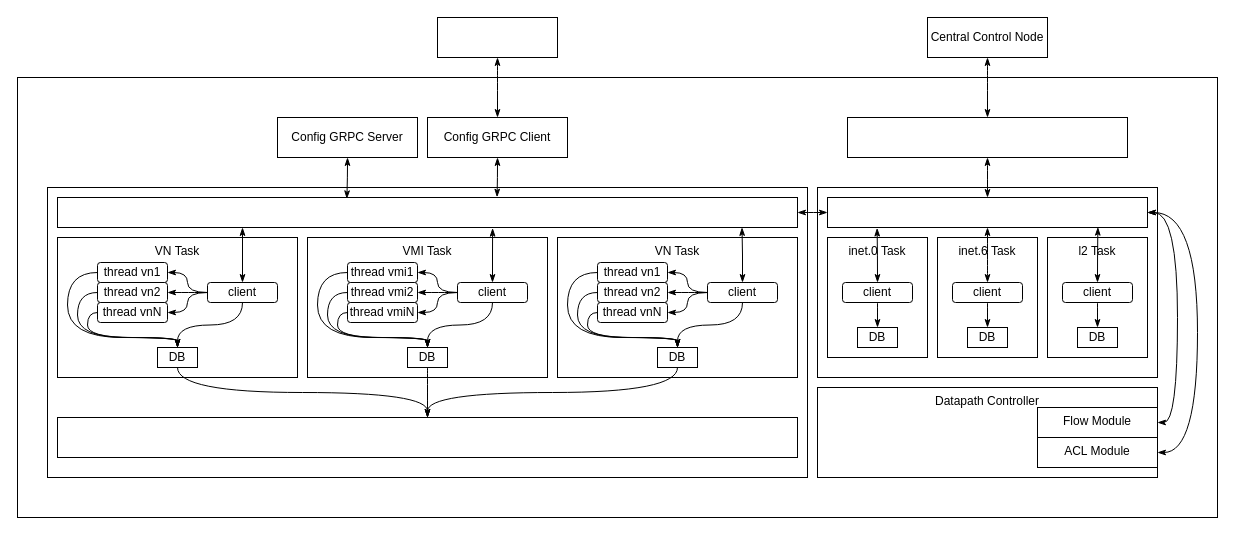
This 1235x535 diagram has some shape labels left out. The centre of each missing label's shape, as x and y in pixels:
"Central Config Controller" goes at (x=497, y=37).
"Control GRPC Client" goes at (x=987, y=137).
"Graph Task" goes at (x=427, y=437).
"Resource Controller Interface" goes at (x=427, y=212).
"Route Controller Interface" goes at (x=987, y=212).
